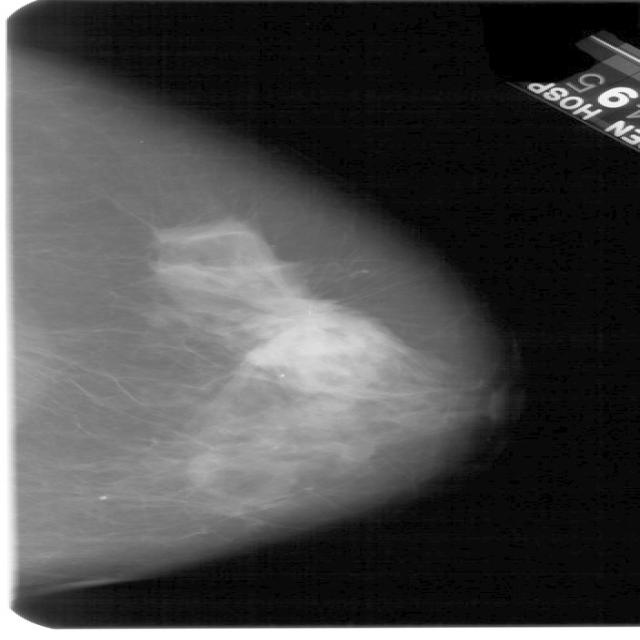tumour: (251, 296, 374, 359)
